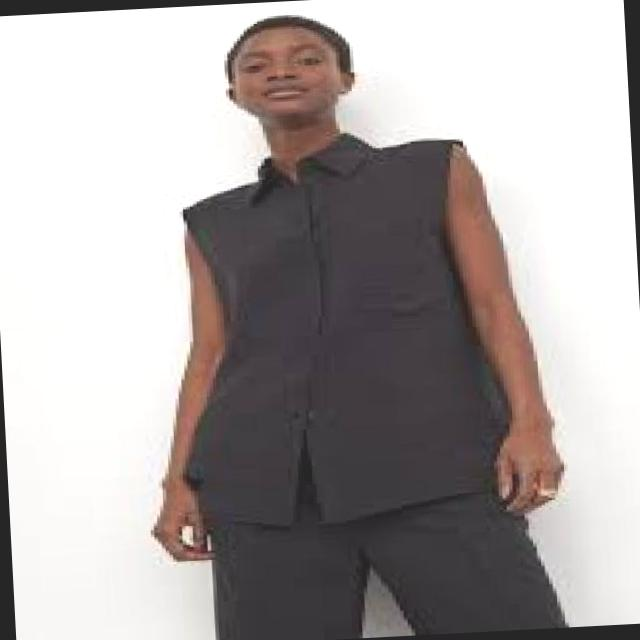no_vest: (165, 123, 516, 530)
